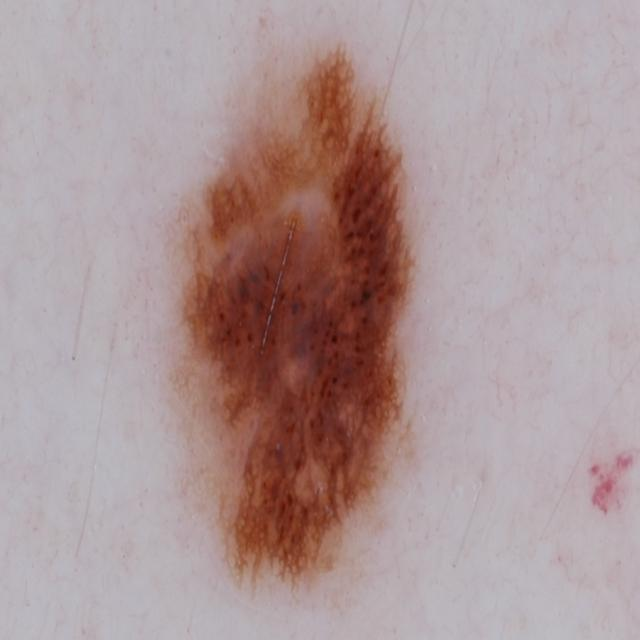Skin-Cancer Nevus: (143, 35, 476, 635)
